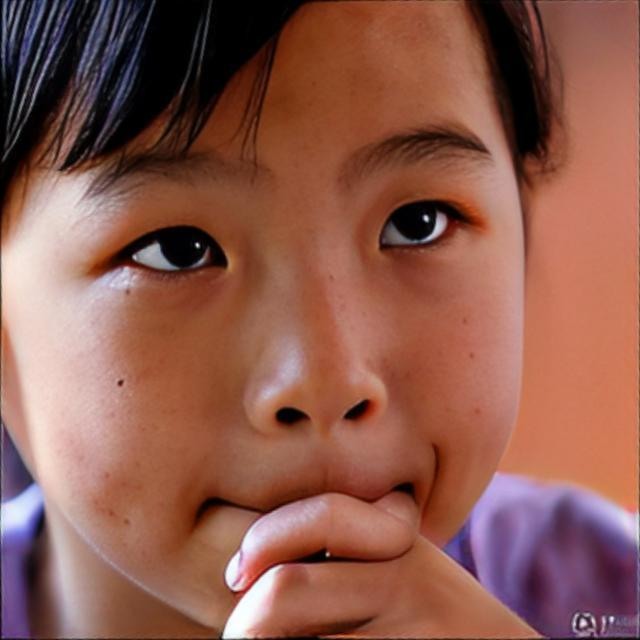sad: (0, 0, 526, 640)
